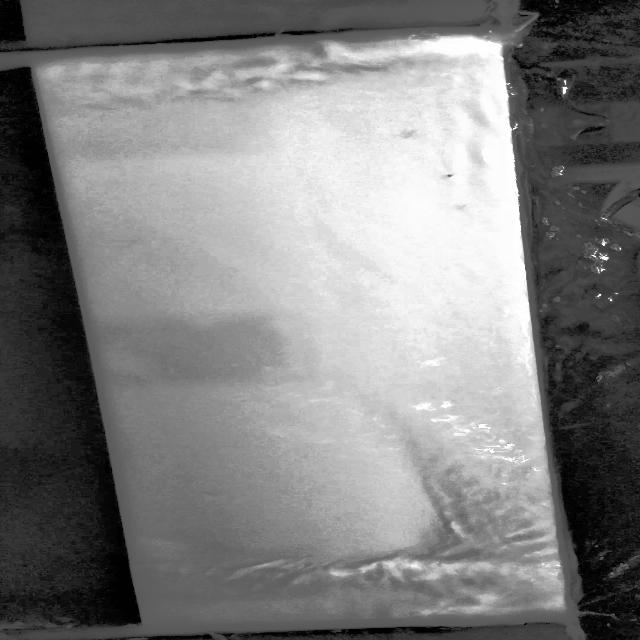shrimp: (404, 125, 436, 146), (434, 167, 465, 177), (457, 201, 476, 213)
